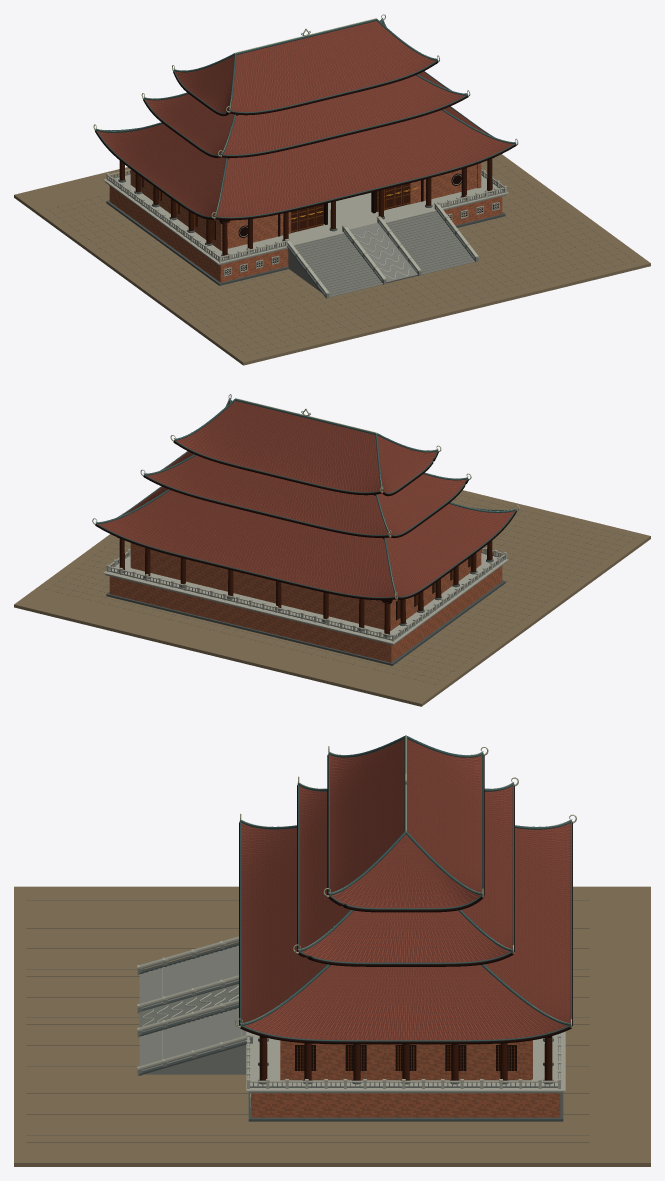
The model's file is tam-the-complete.glb.
3 renders of one model, top to bottom at view 1: azimuth 30°, elevation 25°; view 2: azimuth 150°, elevation 25°; view 3: azimuth 270°, elevation 25°, orthographic. The views are drawn at different scales.
Visible parts, largest first — view 1: Exterior; view 2: Exterior; view 3: Exterior.
Part boxes in pixels (x1,y1,x2,y2): Exterior: (14,14,650,365); Exterior: (14,394,650,706); Exterior: (14,735,650,1166).
Size of the model in its own units: 80 by 34.54 by 78.
13 materials, 2 textured.
